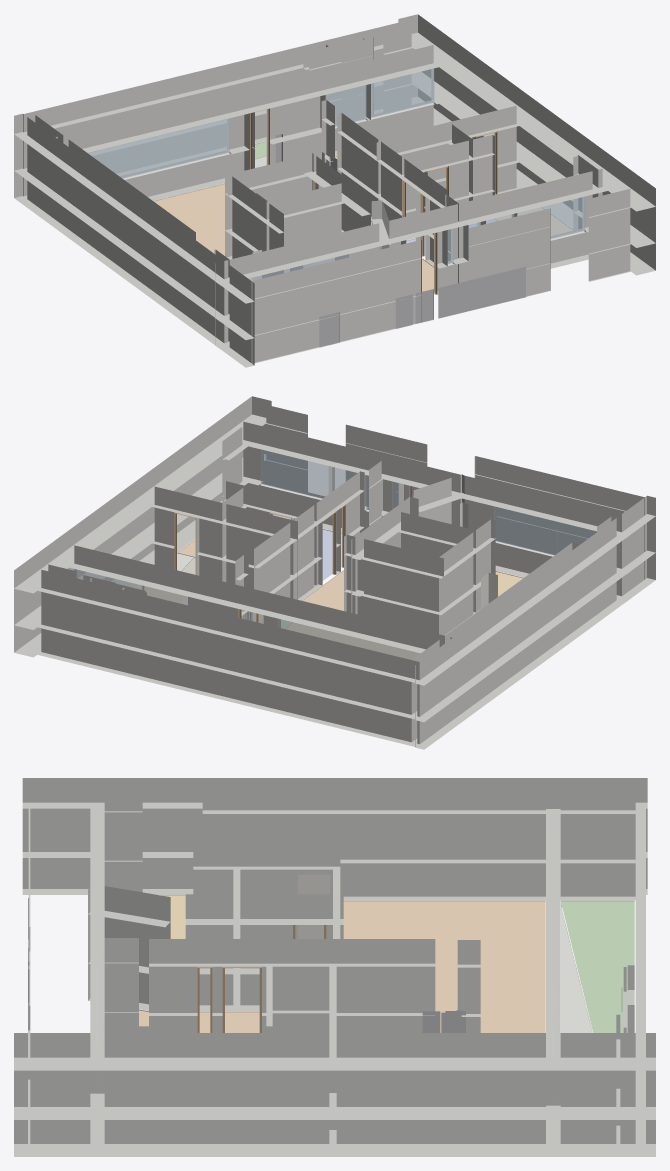
3 renders of one model, top to bottom at view 1: azimuth 30°, elevation 25°; view 2: azimuth 150°, elevation 25°; view 3: azimuth 270°, elevation 25°, orthographic. The views are drawn at different scales.
Parts seen in each view (by area): view 1: walls, railings, window_7, floor_3_Living_Room, window_6, window_5, window_8; view 2: walls, window_4, window_5, floor_3_Living_Room, window_7, floor_8_Bed_Room; view 3: walls, floor_3_Living_Room, floor_0_Outdoor, floor_1_Undefined, railings, furniture_0_closet, floor_10_Kitchen.
Boxes of the visible parts, box(x1,y1,x2,y2) form: walls: box(14, 14, 655, 367); railings: box(275, 134, 525, 347); window_7: box(88, 118, 229, 178); floor_3_Living_Room: box(153, 183, 433, 291); window_6: box(368, 68, 434, 117); window_5: box(517, 196, 585, 238); window_8: box(325, 85, 366, 126); walls: box(14, 396, 655, 749); window_4: box(494, 506, 596, 555); window_5: box(261, 447, 331, 498); floor_3_Living_Room: box(286, 570, 419, 659); window_7: box(278, 618, 420, 659); floor_8_Bed_Room: box(322, 529, 341, 580); walls: box(14, 778, 655, 1156); floor_3_Living_Room: box(139, 900, 545, 1032); floor_0_Outdoor: box(561, 900, 634, 1032); floor_1_Undefined: box(561, 906, 592, 1032); railings: box(28, 898, 465, 1032); furniture_0_closet: box(297, 874, 330, 938); floor_10_Kitchen: box(161, 895, 185, 938).
Bounding box in the file's own units: 13.98 × 2.72 × 14.16.
